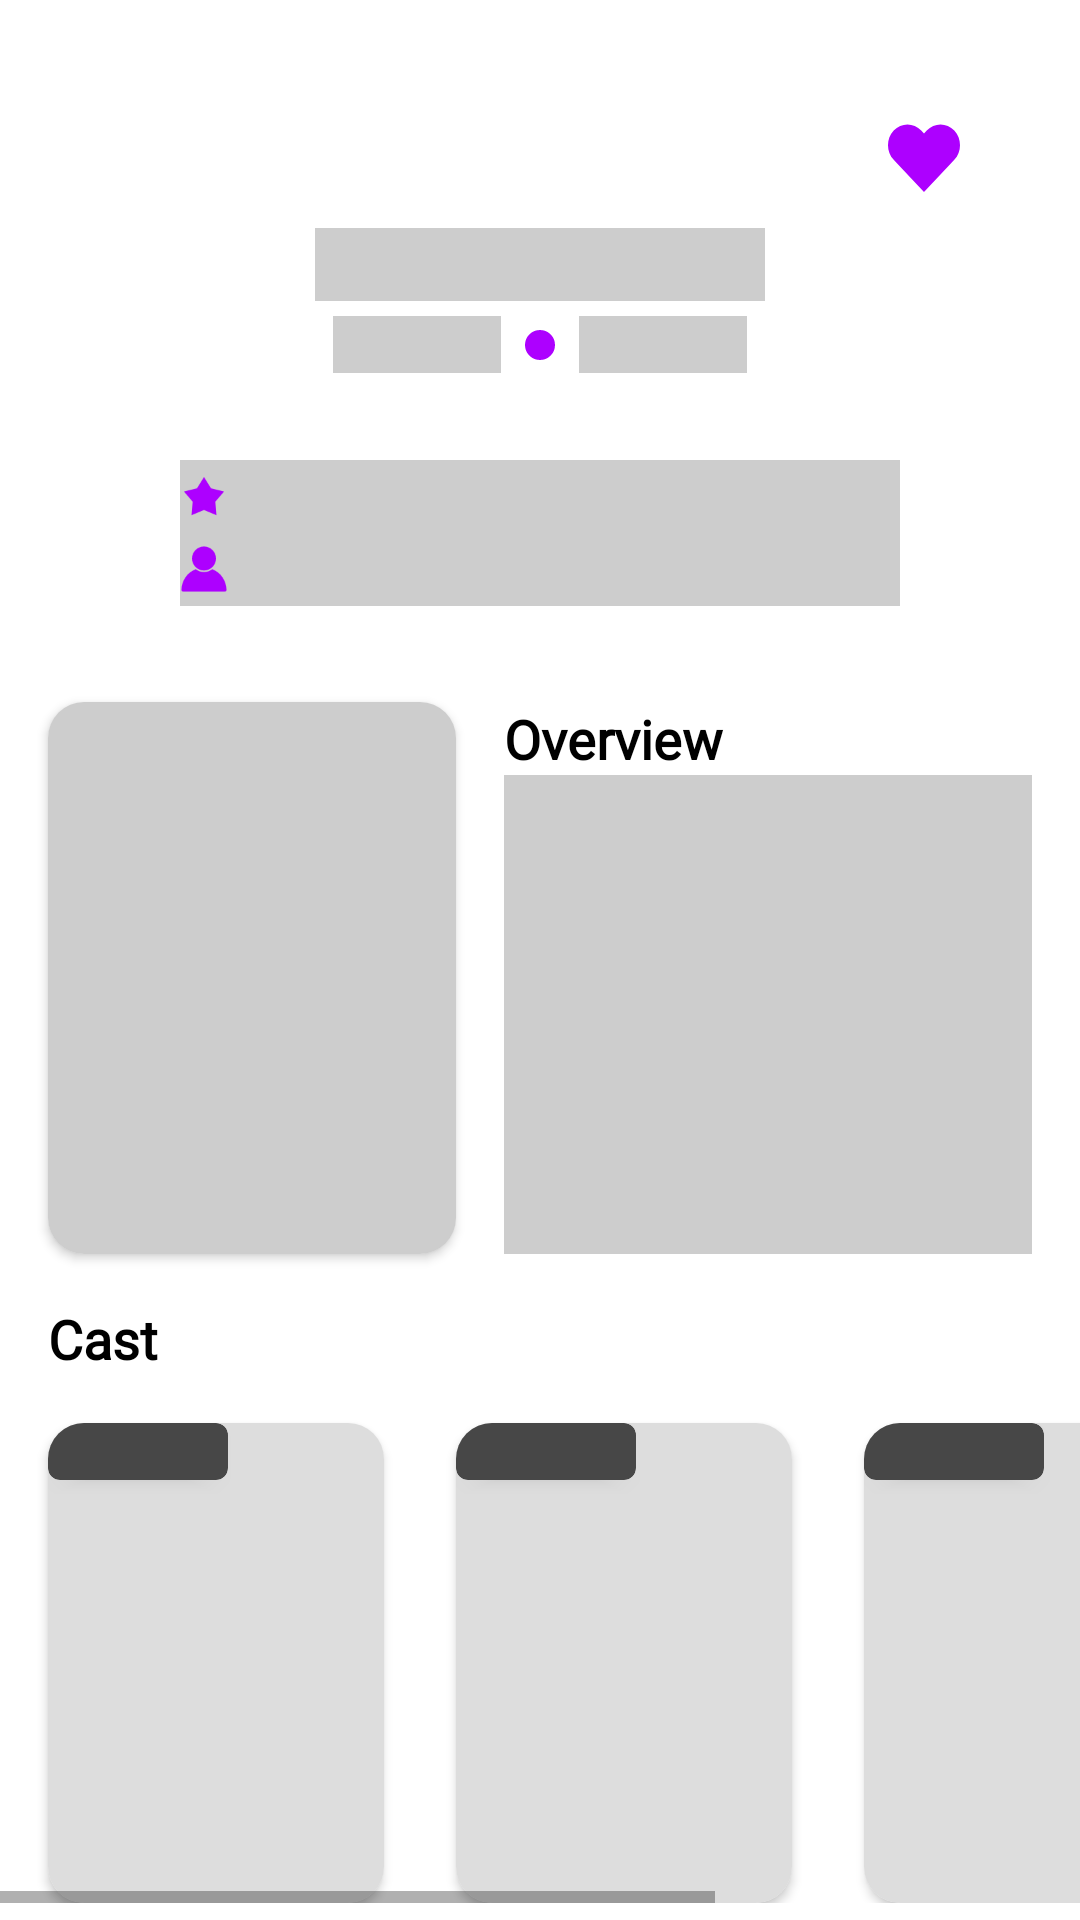

Named icons in this screenshot (1080px×1920px) and their bounding boxes, (x1=x1, y1=y1, x2=x2, y2=y2):
favorite: (x1=888, y1=124, x2=960, y2=192)
